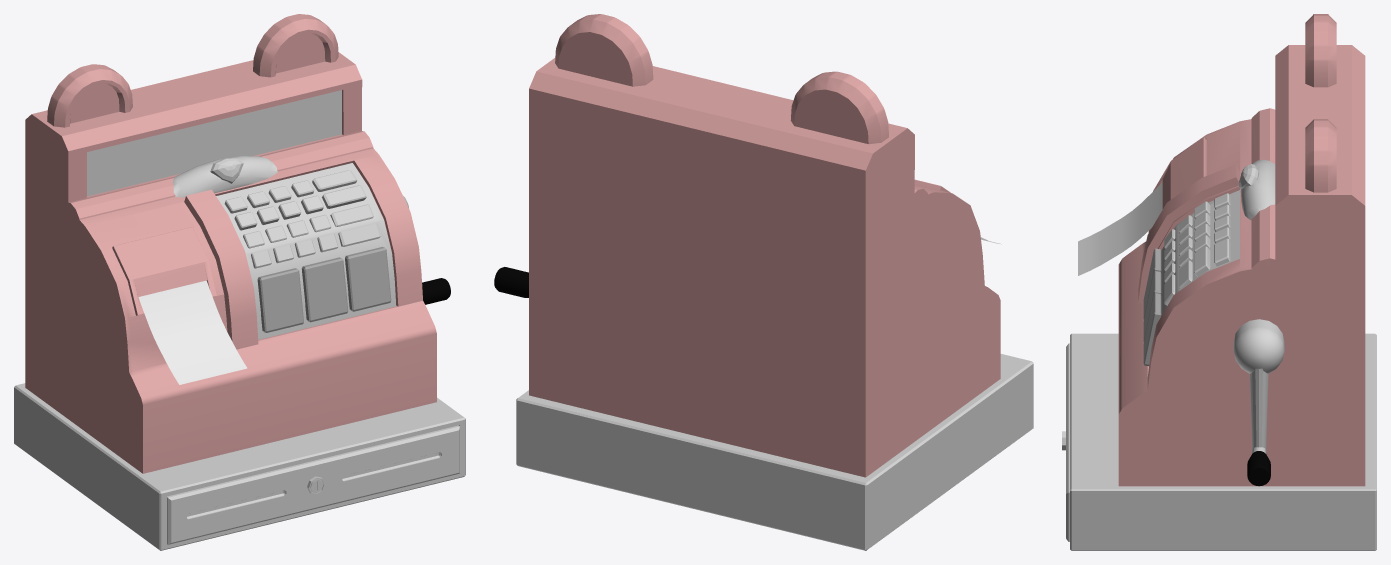
The model's file is cash_register.fbx.
3 views of the same model, side by side, from view 1: azimuth 30°, elevation 25°; view 2: azimuth 150°, elevation 25°; view 3: azimuth 270°, elevation 25° (orthographic). The views are drawn at different scales.
Visible parts, largest first — view 1: body, paper, button3, button2, button1, lever; view 2: body, lever; view 3: body, lever, paper, button3, button1, button2.
Boxes of the visible parts, x1=… form: body: x1=14, y1=14, x2=465, y2=550; paper: x1=138, y1=280, x2=247, y2=384; button3: x1=345, y1=247, x2=391, y2=311; button2: x1=301, y1=257, x2=348, y2=322; button1: x1=257, y1=268, x2=303, y2=332; lever: x1=403, y1=196, x2=450, y2=304; body: x1=516, y1=14, x2=1033, y2=550; lever: x1=494, y1=267, x2=528, y2=297; body: x1=1062, y1=14, x2=1376, y2=550; lever: x1=1233, y1=319, x2=1284, y2=486; paper: x1=1078, y1=182, x2=1162, y2=275; button3: x1=1143, y1=293, x2=1161, y2=365; button1: x1=1143, y1=248, x2=1161, y2=319; button2: x1=1143, y1=271, x2=1161, y2=341.
Bounding box in the file's own units: 6.75 × 6.57 × 4.67.
